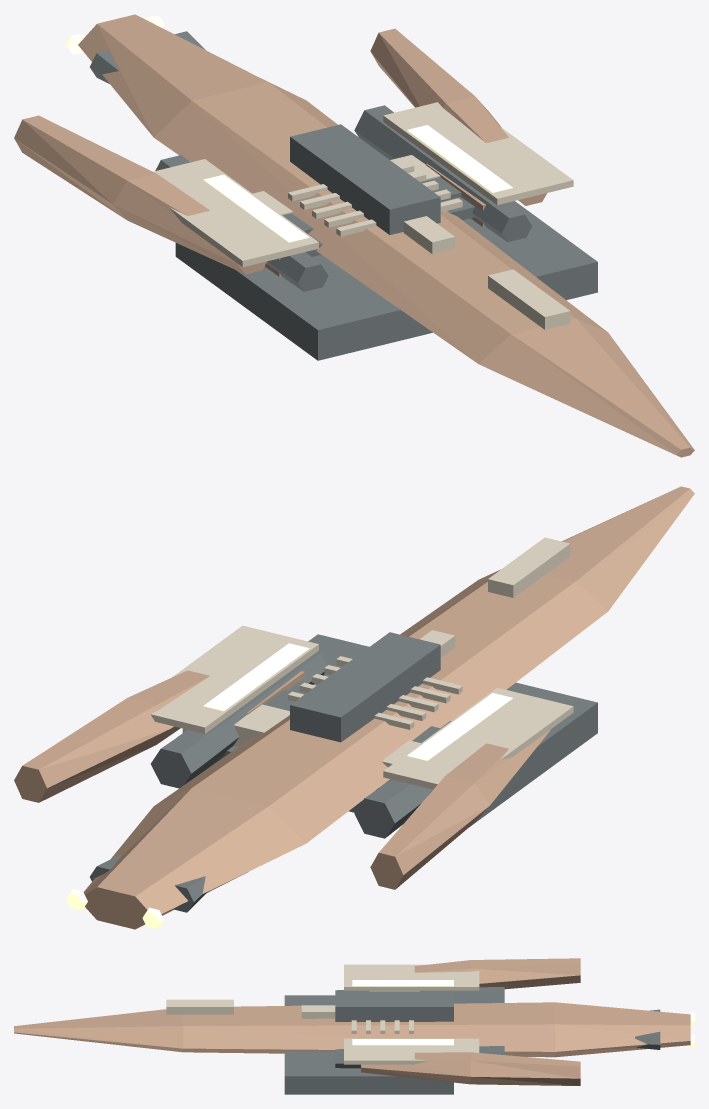
The picture shows the model from 3 angles, top to bottom: view 1: azimuth 30°, elevation 25°; view 2: azimuth 150°, elevation 25°; view 3: azimuth 270°, elevation 25°; orthographic projection. The views are drawn at different scales.
Bounding box in the file's own units: 5.94 × 1.34 × 15.13.
